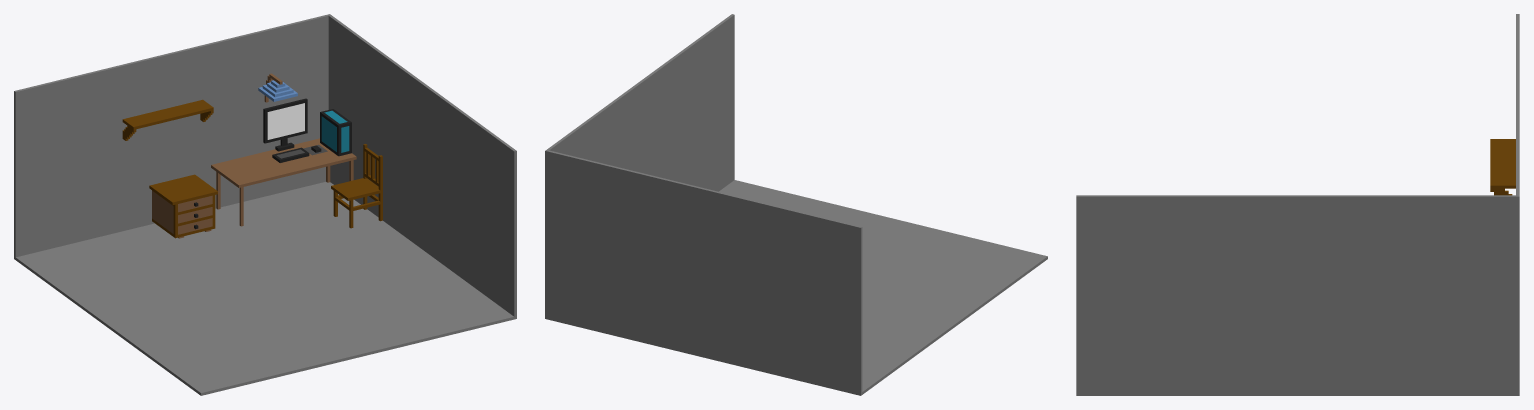
Rendered from SimpleRoom.obj.
3 views of the same model, side by side, from view 1: azimuth 30°, elevation 25°; view 2: azimuth 150°, elevation 25°; view 3: azimuth 270°, elevation 25° (orthographic). The views are drawn at different scales.
Bounding box in the file's own units: 11.8 × 6 × 12.1.
